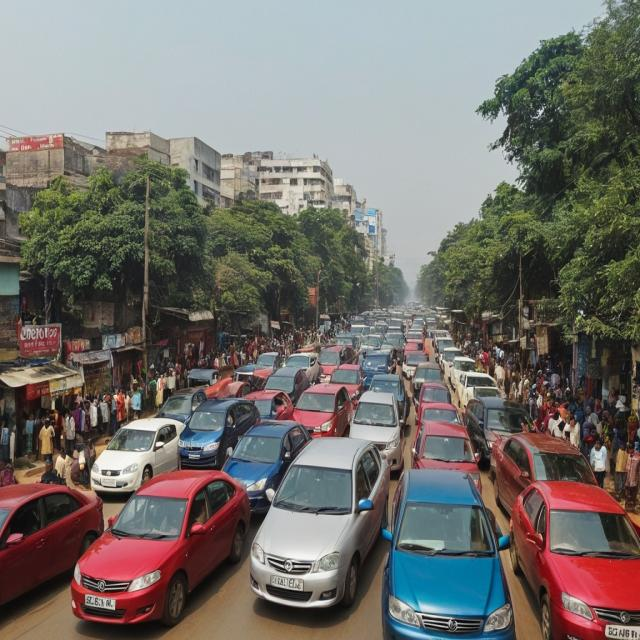black: (462, 394, 537, 451)
blue: (385, 463, 521, 640), (223, 420, 308, 508), (180, 399, 257, 467)
red: (78, 470, 250, 632), (512, 485, 640, 640), (0, 479, 97, 618), (486, 432, 596, 514), (412, 419, 483, 501), (288, 381, 350, 442), (416, 380, 462, 429), (333, 362, 363, 400)
silver: (249, 428, 391, 614), (346, 387, 406, 475), (353, 392, 402, 472)
white: (88, 416, 180, 488)
